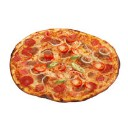pepperonipizza: (10, 29, 121, 101)
